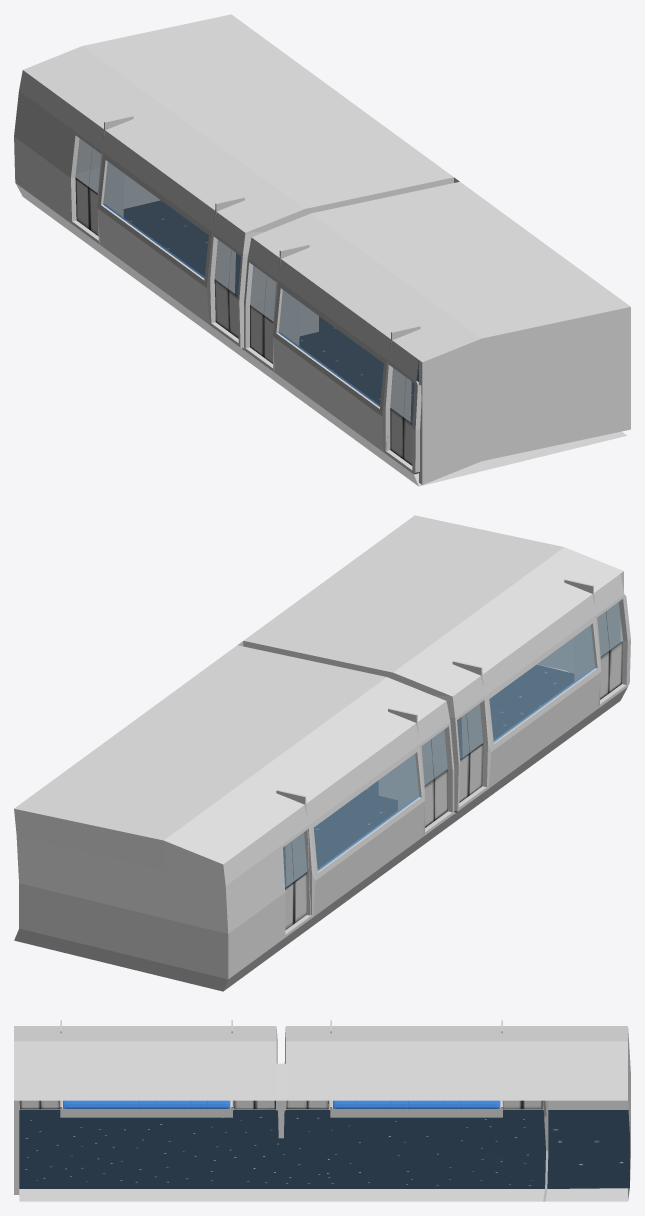
Rendered from InsideTrainfbx.fbx.
3 renders of one model, top to bottom at view 1: azimuth 30°, elevation 25°; view 2: azimuth 150°, elevation 25°; view 3: azimuth 270°, elevation 25°, orthographic. The views are drawn at different scales.
Parts seen in each view (by area): view 1: Train Inside, Cube.012, Cube.013; view 2: Train Inside, Cube.013, Cube.012; view 3: Train Inside, Cube.012, Cube.013.
Boxes of the visible parts, x1,y1,x2,y2 form: Train Inside: [14, 14, 630, 486]; Cube.012: [278, 244, 420, 450]; Cube.013: [102, 115, 244, 293]; Train Inside: [14, 515, 630, 991]; Cube.013: [276, 708, 419, 915]; Cube.012: [452, 579, 595, 757]; Train Inside: [14, 1026, 630, 1201]; Cube.012: [60, 1020, 232, 1117]; Cube.013: [330, 1020, 502, 1117].
Size of the model in its own units: 728 by 436 by 2331.
